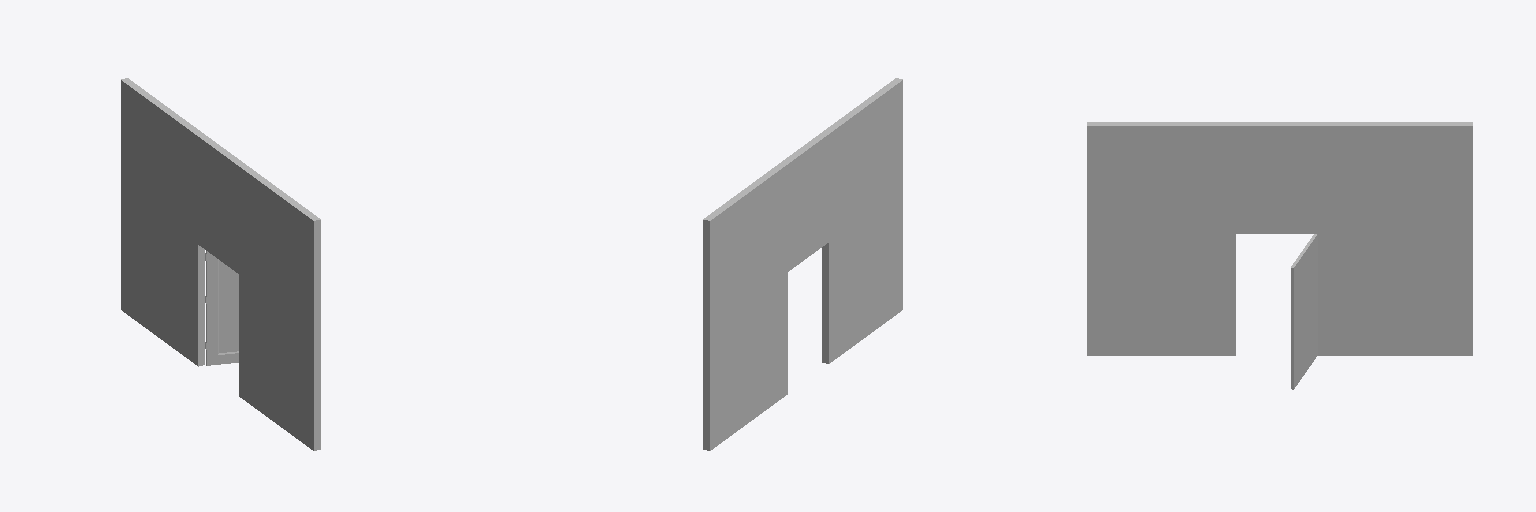
File: backWall.obj
3 views of the same model, side by side, from view 1: azimuth 30°, elevation 25°; view 2: azimuth 150°, elevation 25°; view 3: azimuth 270°, elevation 25° (orthographic).
Visible parts, largest first — view 1: walls_SecondRoom_End, door_End; view 2: walls_SecondRoom_End; view 3: walls_SecondRoom_End, door_End.
Part boxes in pixels (bbox=[...]): walls_SecondRoom_End: bbox=[121, 78, 320, 450]; door_End: bbox=[206, 251, 238, 365]; walls_SecondRoom_End: bbox=[703, 78, 902, 450]; walls_SecondRoom_End: bbox=[1087, 122, 1472, 355]; door_End: bbox=[1291, 234, 1317, 389].
Bounding box in the file's own units: 42.47 × 120 × 183.